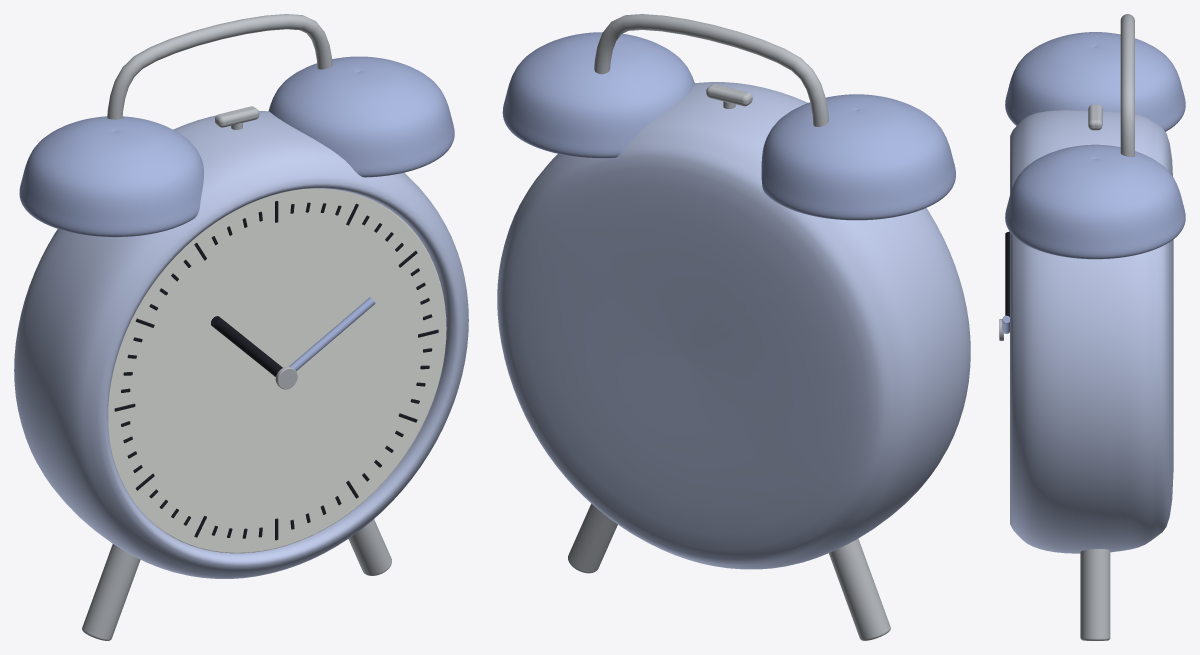
Rendered from alarm-clock.glb.
3 views of the same model, side by side, from view 1: azimuth 30°, elevation 25°; view 2: azimuth 150°, elevation 25°; view 3: azimuth 270°, elevation 25° (orthographic). The views are drawn at different scales.
Parts seen in each view (by area): view 1: exposed-clock-dial-004, rounded-clock-case, hollow-domed-alarm-bell (×2), fixed-bell-supports-070, clock-case-and-legs-002, clock-case-and-legs-003, hour-hand-065, minute-hand-066; view 2: rounded-clock-case, hollow-domed-alarm-bell (×2), fixed-bell-supports-070, clock-case-and-legs-002, clock-case-and-legs-003, oscillating-alarm-hammer-074; view 3: rounded-clock-case, hollow-domed-alarm-bell (×2), clock-case-and-legs-003, fixed-bell-supports-070, hour-hand-065, oscillating-alarm-hammer-074.
Boxes of the visible parts, <box> form: exposed-clock-dial-004: <box>108,188,446,553</box>; rounded-clock-case: <box>14,111,468,578</box>; hollow-domed-alarm-bell (×2): <box>19,56,454,237</box>; fixed-bell-supports-070: <box>107,14,332,119</box>; clock-case-and-legs-002: <box>82,544,140,640</box>; clock-case-and-legs-003: <box>348,519,391,575</box>; hour-hand-065: <box>211,316,282,376</box>; minute-hand-066: <box>289,297,375,370</box>; rounded-clock-case: <box>497,82,970,569</box>; hollow-domed-alarm-bell (×2): <box>502,32,955,220</box>; fixed-bell-supports-070: <box>594,14,828,126</box>; clock-case-and-legs-002: <box>829,538,890,640</box>; clock-case-and-legs-003: <box>568,503,617,573</box>; oscillating-alarm-hammer-074: <box>706,84,752,106</box>; rounded-clock-case: <box>1010,110,1173,553</box>; hollow-domed-alarm-bell (×2): <box>1005,32,1185,259</box>; clock-case-and-legs-003: <box>1080,549,1110,640</box>; fixed-bell-supports-070: <box>1120,14,1134,156</box>; hour-hand-065: <box>1005,231,1009,316</box>; oscillating-alarm-hammer-074: <box>1088,104,1102,130</box>.
Bounding box in the file's own units: 1.51 × 2 × 0.6288.
